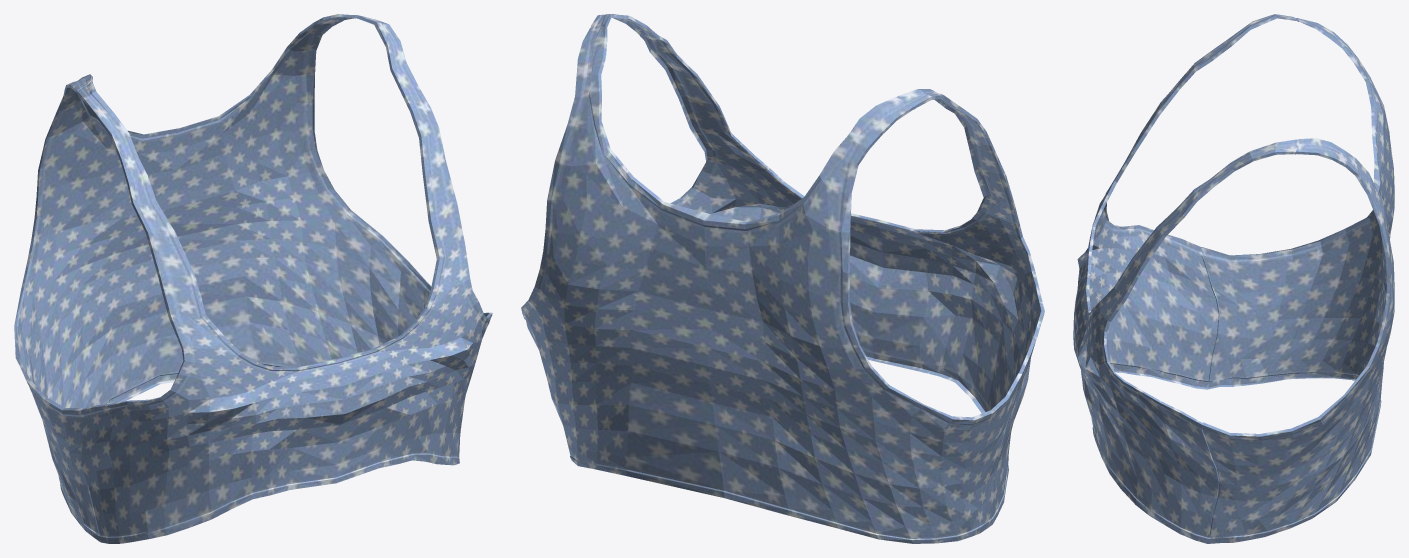
Rendered from mhw_wolgade_female_top_01.glb.
The picture shows the model from 3 angles, left to right: view 1: azimuth 30°, elevation 25°; view 2: azimuth 150°, elevation 25°; view 3: azimuth 270°, elevation 25°; orthographic projection. The views are drawn at different scales.
Parts seen in each view (by area): view 1: mhw_wolgade_female_top_01; view 2: mhw_wolgade_female_top_01; view 3: mhw_wolgade_female_top_01.
Boxes of the visible parts, x1,y1,x2,y2 form: mhw_wolgade_female_top_01: (14, 14, 492, 543); mhw_wolgade_female_top_01: (521, 14, 1044, 543); mhw_wolgade_female_top_01: (1073, 14, 1394, 543).
Size of the model in its own units: 0.3443 by 0.3412 by 0.2564.
Materials: 1 (1 with a texture image).
